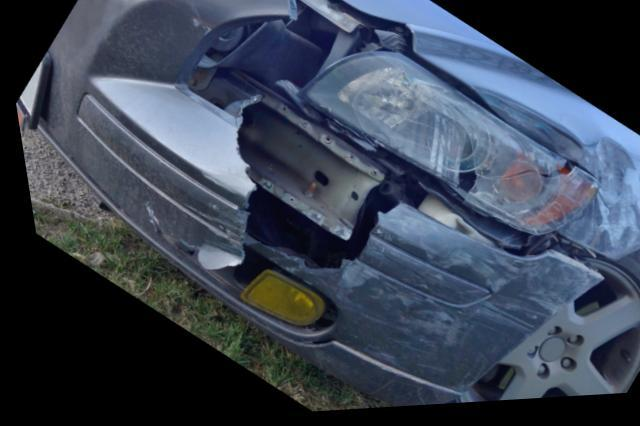crack: (231, 100, 393, 275)
dent: (470, 92, 640, 264)
dislocated part: (13, 0, 606, 411)
lamp broken: (291, 54, 593, 242)
scratch: (326, 213, 594, 376)
